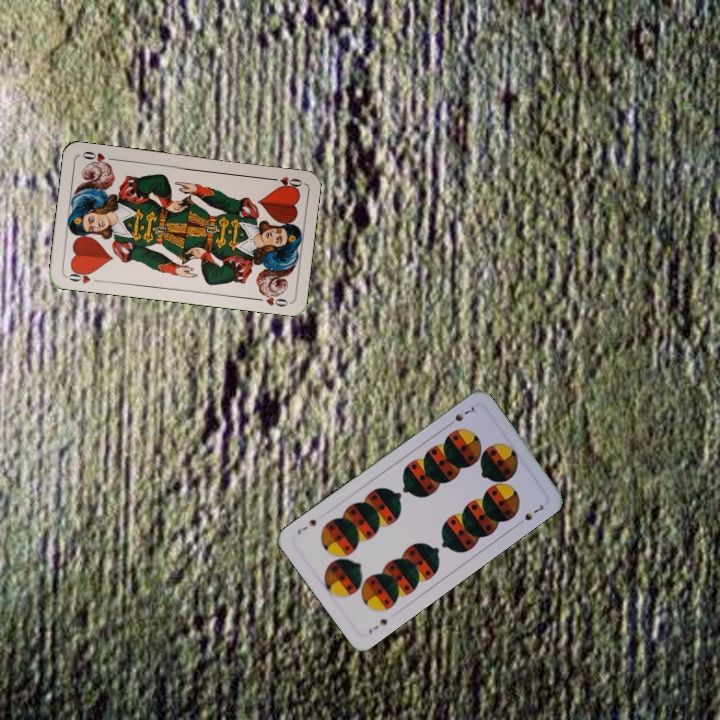HO: (63, 266, 103, 286), (264, 172, 305, 190)
S7: (443, 402, 477, 429), (364, 614, 390, 636)
